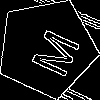M: (22, 23, 81, 80)
